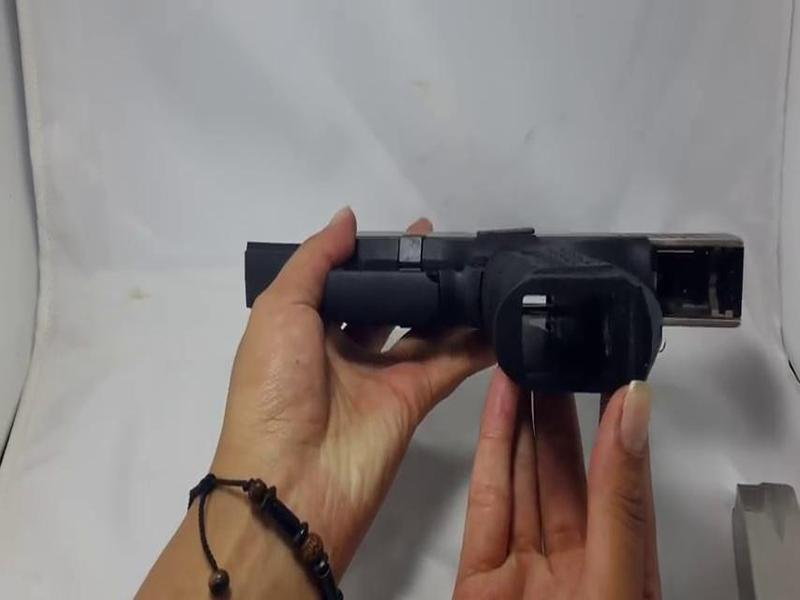Pistola: (229, 181, 769, 404)
